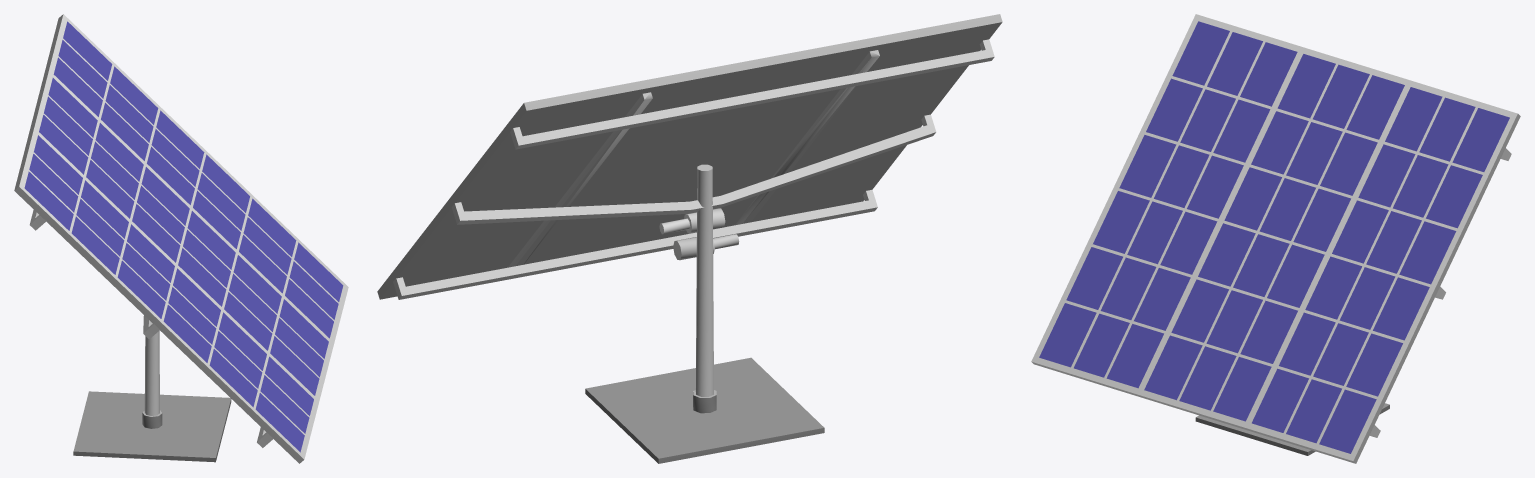
The model's file is energy.gltf.
3 views of the same model, side by side, from view 1: azimuth 30°, elevation 25°; view 2: azimuth 150°, elevation 25°; view 3: azimuth 270°, elevation 25° (orthographic). The views are drawn at different scales.
Parts seen in each view (by area): view 1: Plane.003, Cylinder; view 2: Plane.003, Cylinder; view 3: Plane.003, Cylinder.
Boxes of the visible parts, left/top/right/bottom form: Plane.003: left=14, top=14, right=348, bottom=463; Cylinder: left=73, top=331, right=231, bottom=462; Plane.003: left=377, top=14, right=1002, bottom=299; Cylinder: left=585, top=164, right=824, bottom=463; Plane.003: left=1031, top=14, right=1520, bottom=463; Cylinder: left=1195, top=403, right=1389, bottom=455.
Bounding box in the file's own units: 4.11 × 3.07 × 4.34.
1 material, 1 textured.
